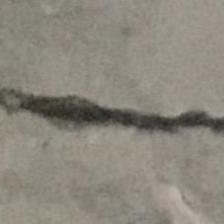Crack: (0, 53, 224, 184)
